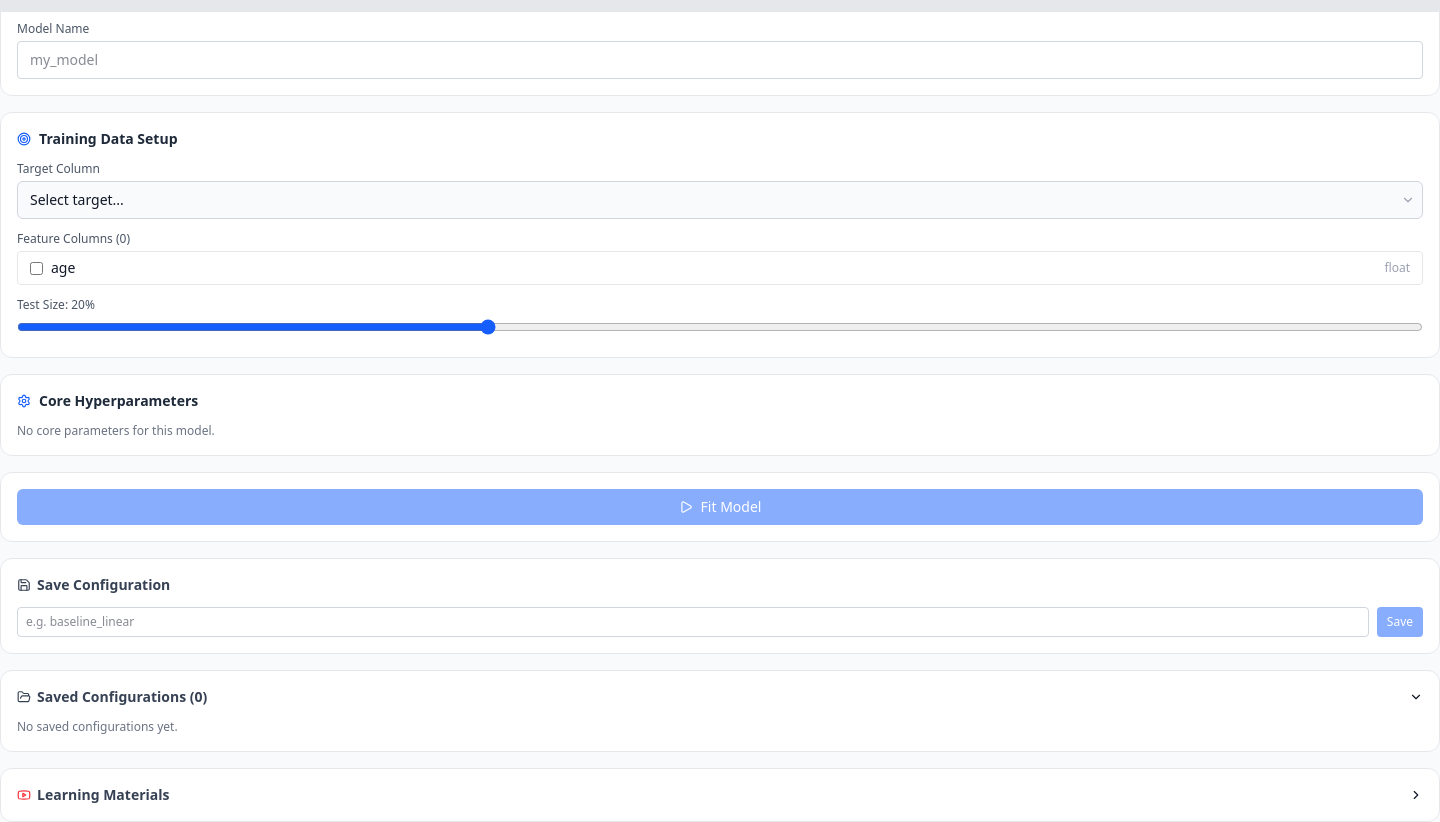
Pipeline Workbench Components Smoke Tests › keeps learning materials collapsed by default
The image size is (1440, 822).
(page scrolled)
Expected: the text "Intro to Linear Regression" is not shown
Click the button "Learning Materials". click: [103, 794]
box: left=17, top=785, right=1423, bottom=805
(page scrolled)
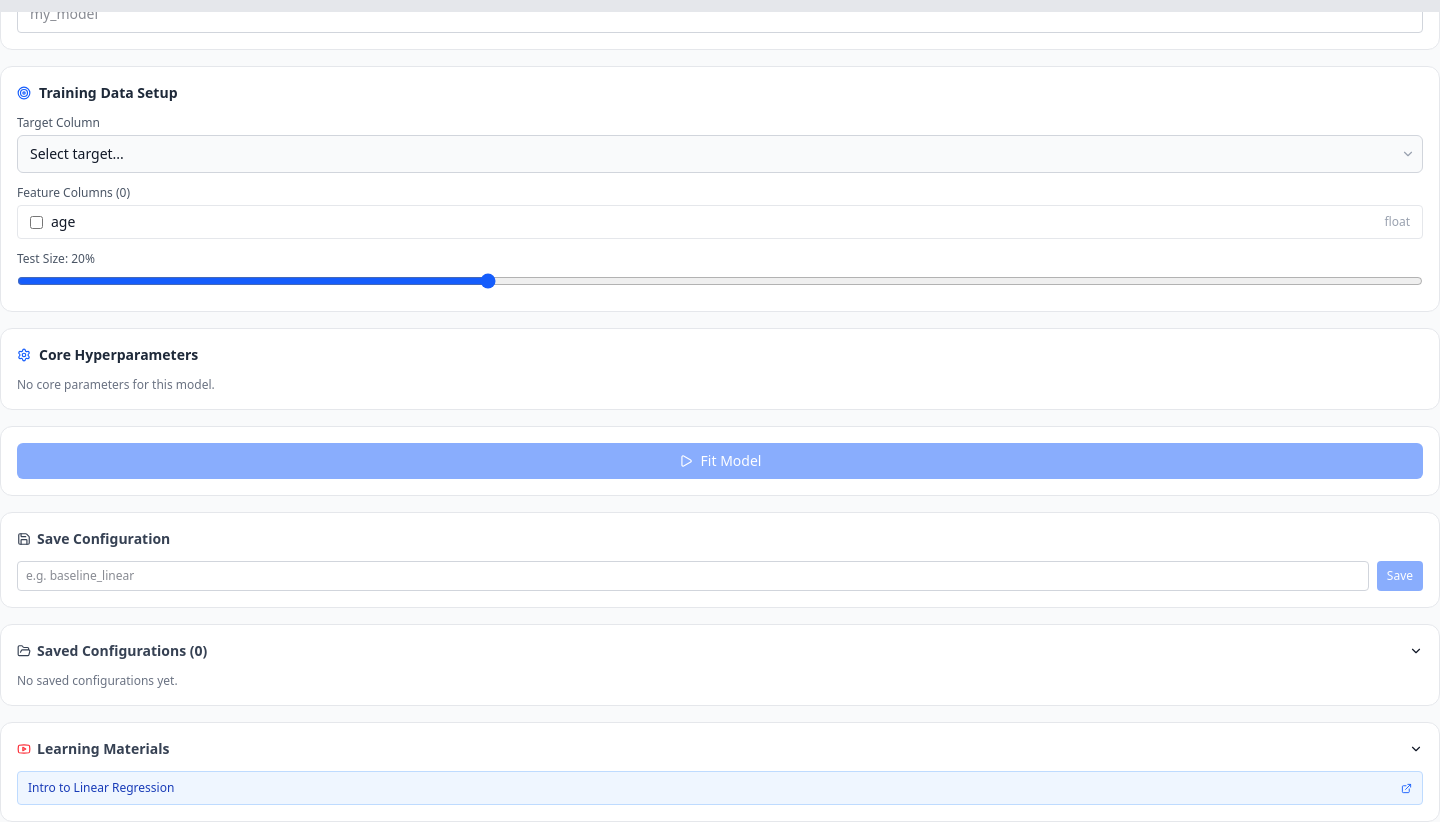
Now the text "Intro to Linear Regression" is shown, box left=28, top=780, right=174, bottom=796
